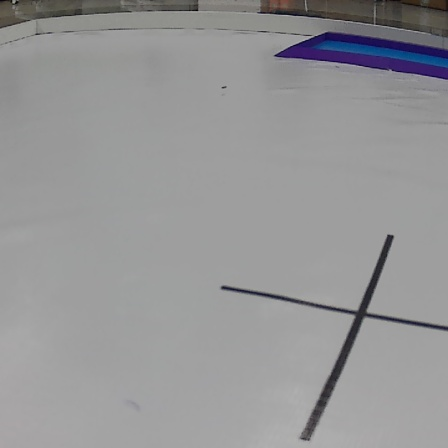blue_aim: (274, 27, 448, 82)
